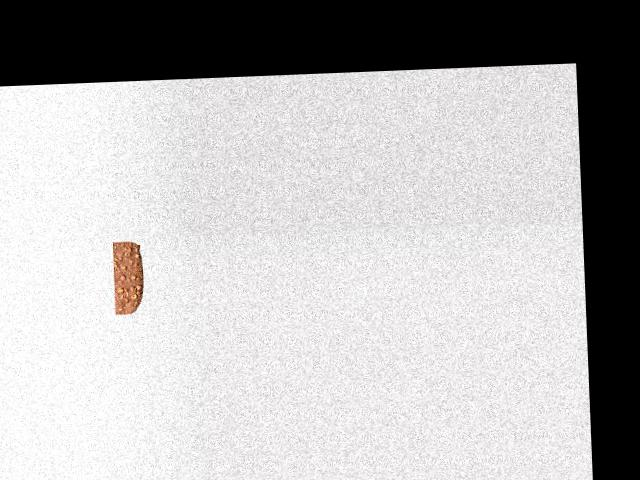chocolate: (109, 241, 150, 315)
